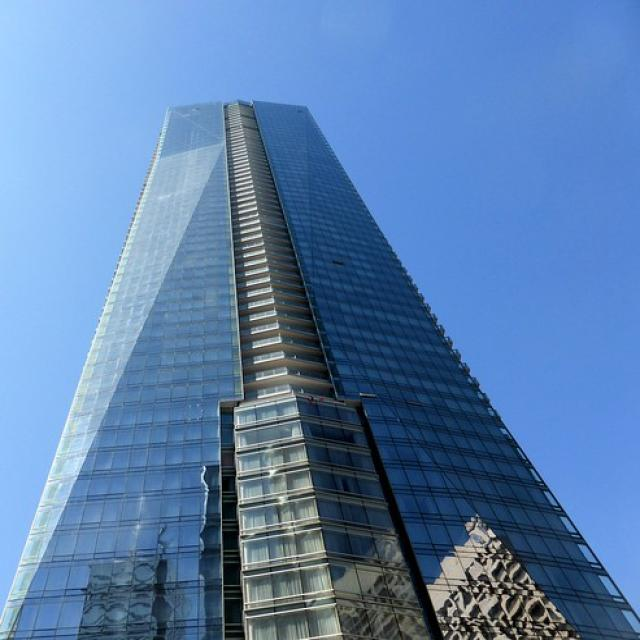building: (4, 96, 633, 640)
